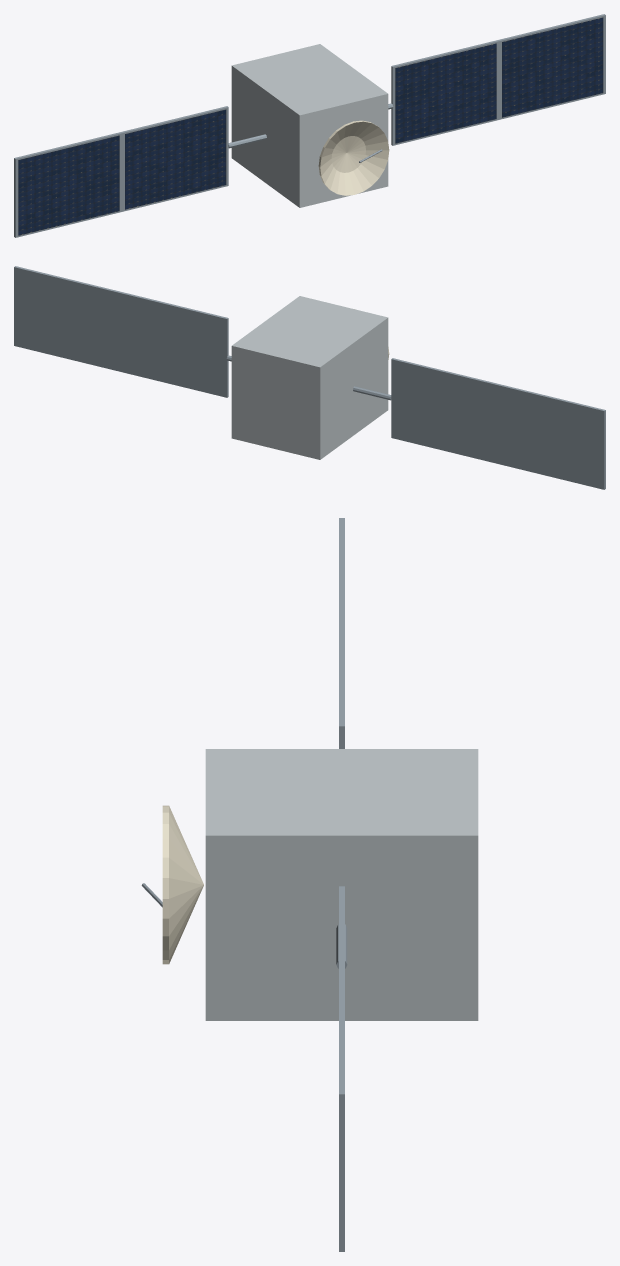
Rendered from ref-espasat-58292.glb.
The picture shows the model from 3 angles, top to bottom: view 1: azimuth 30°, elevation 25°; view 2: azimuth 150°, elevation 25°; view 3: azimuth 270°, elevation 25°; orthographic projection. The views are drawn at different scales.
Visible parts, largest first — view 1: Photovoltaic laminates (×4), Spacecraft body, Array frame (×4), Reflector dish; view 2: Array frame (×4), Spacecraft body; view 3: Spacecraft body, Reflector dish, Array frame.
Boxes of the visible parts, x1=… form: Photovoltaic laminates (×4): x1=18, y1=17, x2=603, y2=235; Spacecraft body: x1=231, y1=44, x2=388, y2=207; Array frame (×4): x1=14, y1=14, x2=605, y2=237; Reflector dish: x1=318, y1=120, x2=389, y2=195; Array frame (×4): x1=14, y1=266, x2=605, y2=489; Spacecraft body: x1=231, y1=296, x2=388, y2=459; Spacecraft body: x1=205, y1=749, x2=478, y2=1020; Reflector dish: x1=162, y1=805, x2=203, y2=964; Array frame: x1=339, y1=990, x2=344, y2=1251.
Bounding box in the file's own units: 4 × 0.6 × 0.9872.
4 materials, 1 textured.
